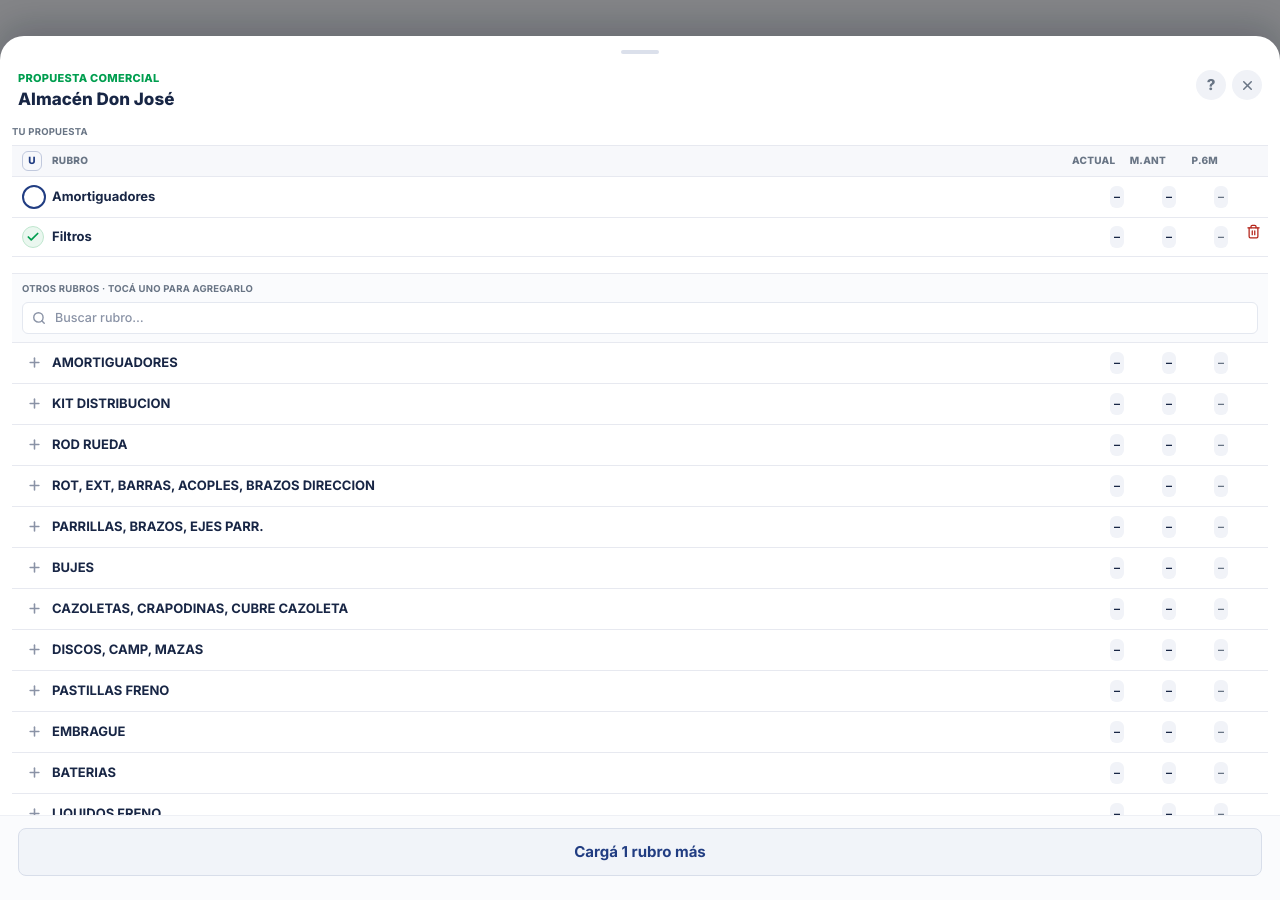
Scenario: el wizard conserva lo tildado en un rubro al navegar a otro y volver
The width and height of the screenshot is (1280, 900).
Click the button with aria-label "Resolución de Amortiguadores": (104, 196) [12,177,1238,217]
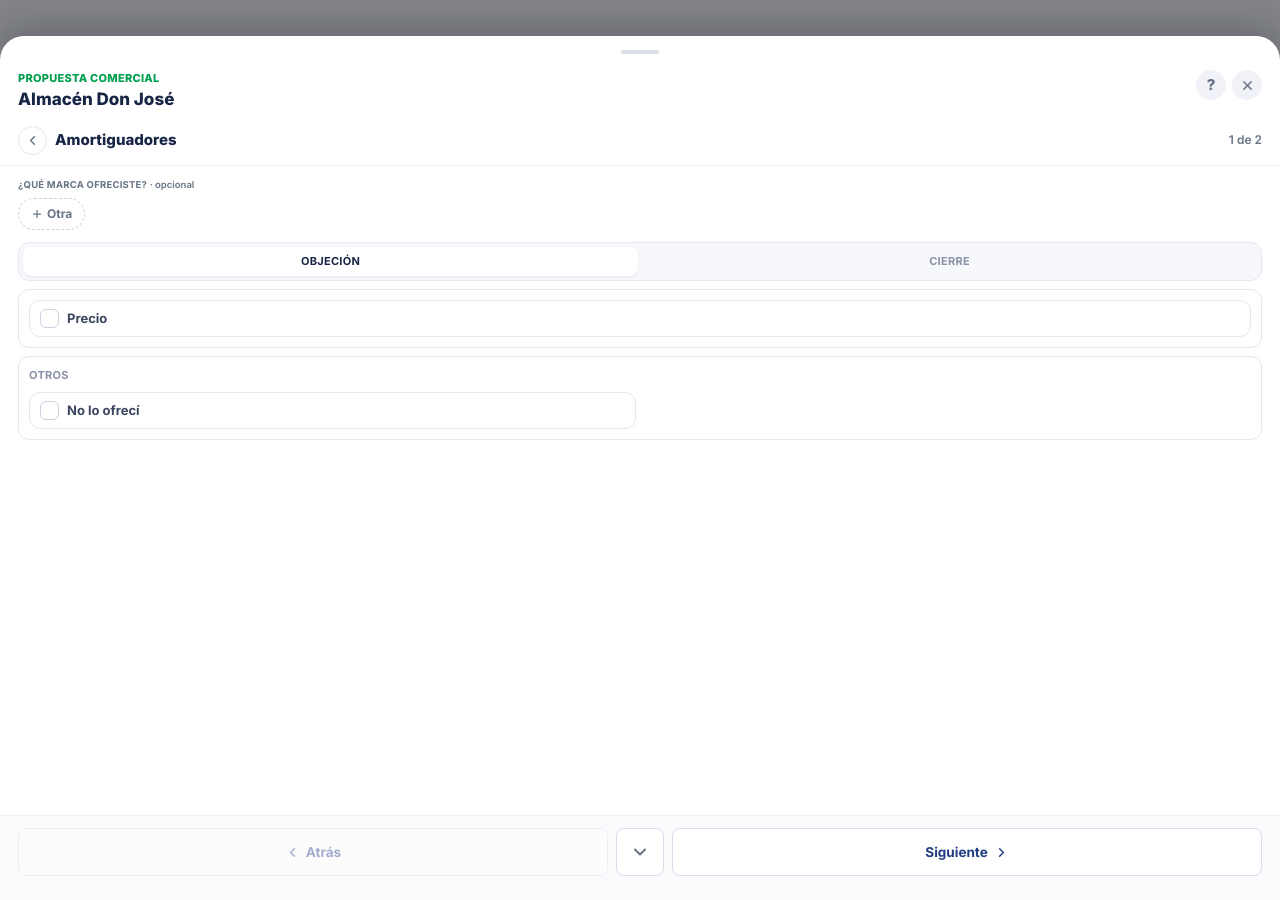
Click the button "Cierre": (950, 261) [642,247,1257,276]
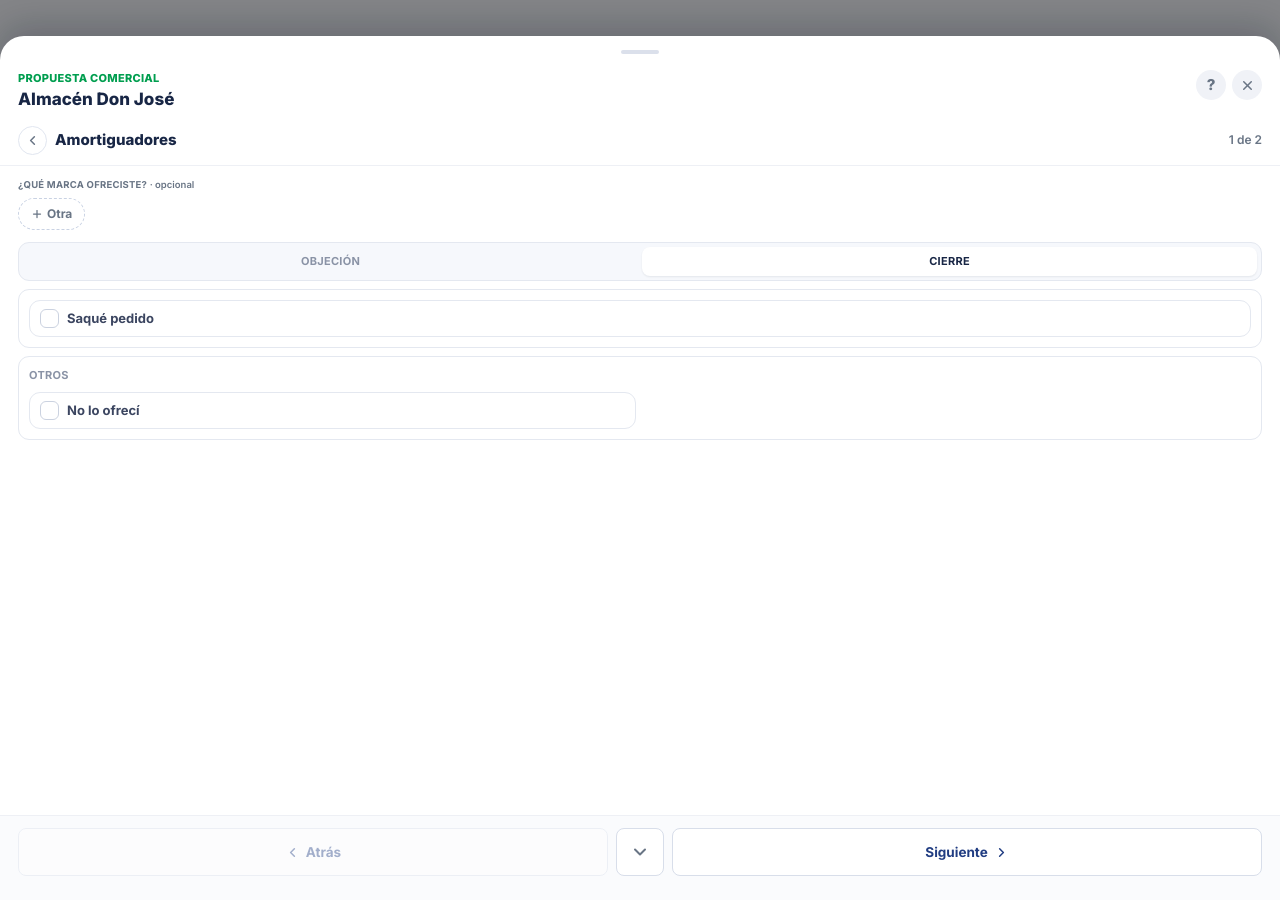
Click the button "Saqué pedido": (110, 318) [29,300,1251,337]
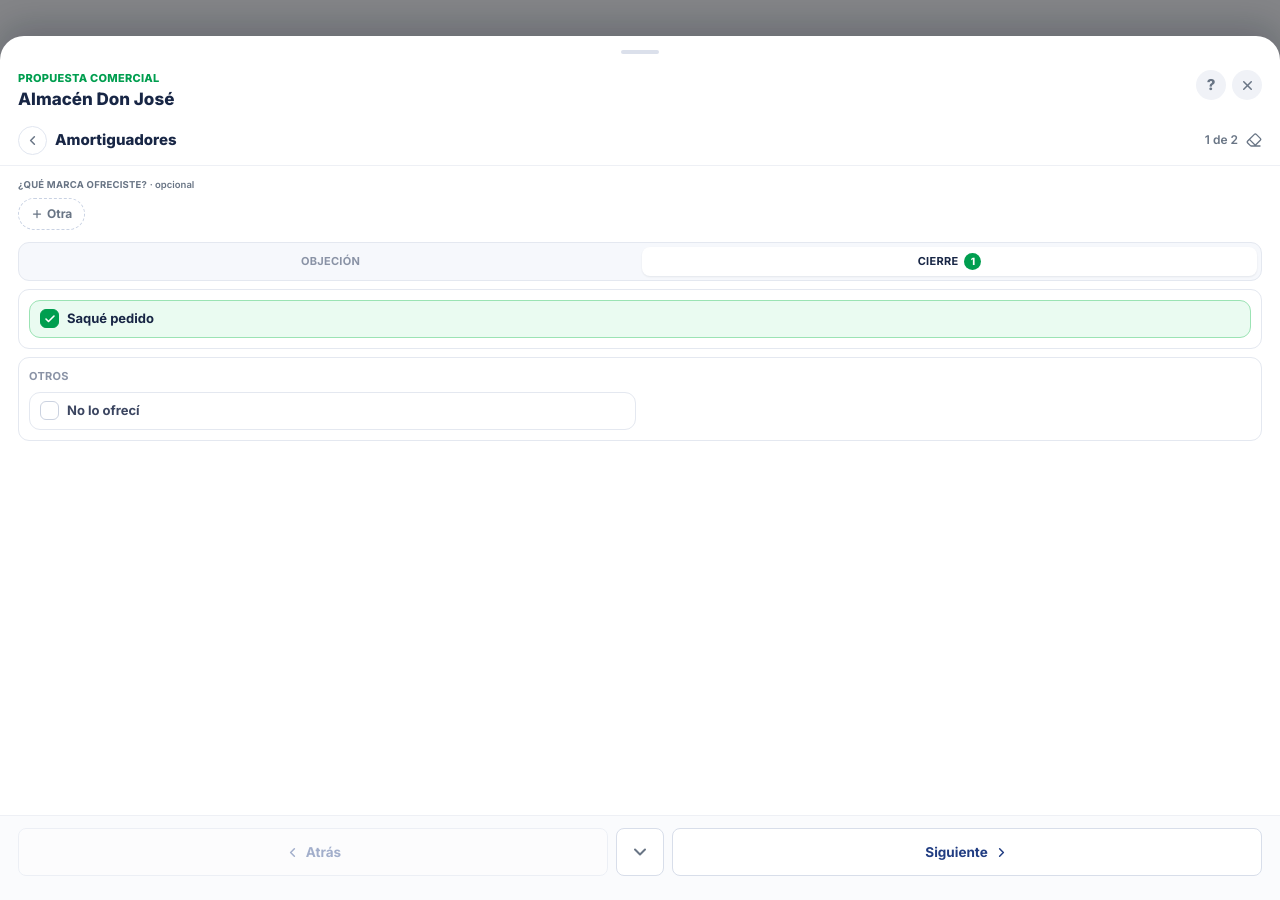
Click the button "Siguiente": (967, 852) [672,828,1262,876]
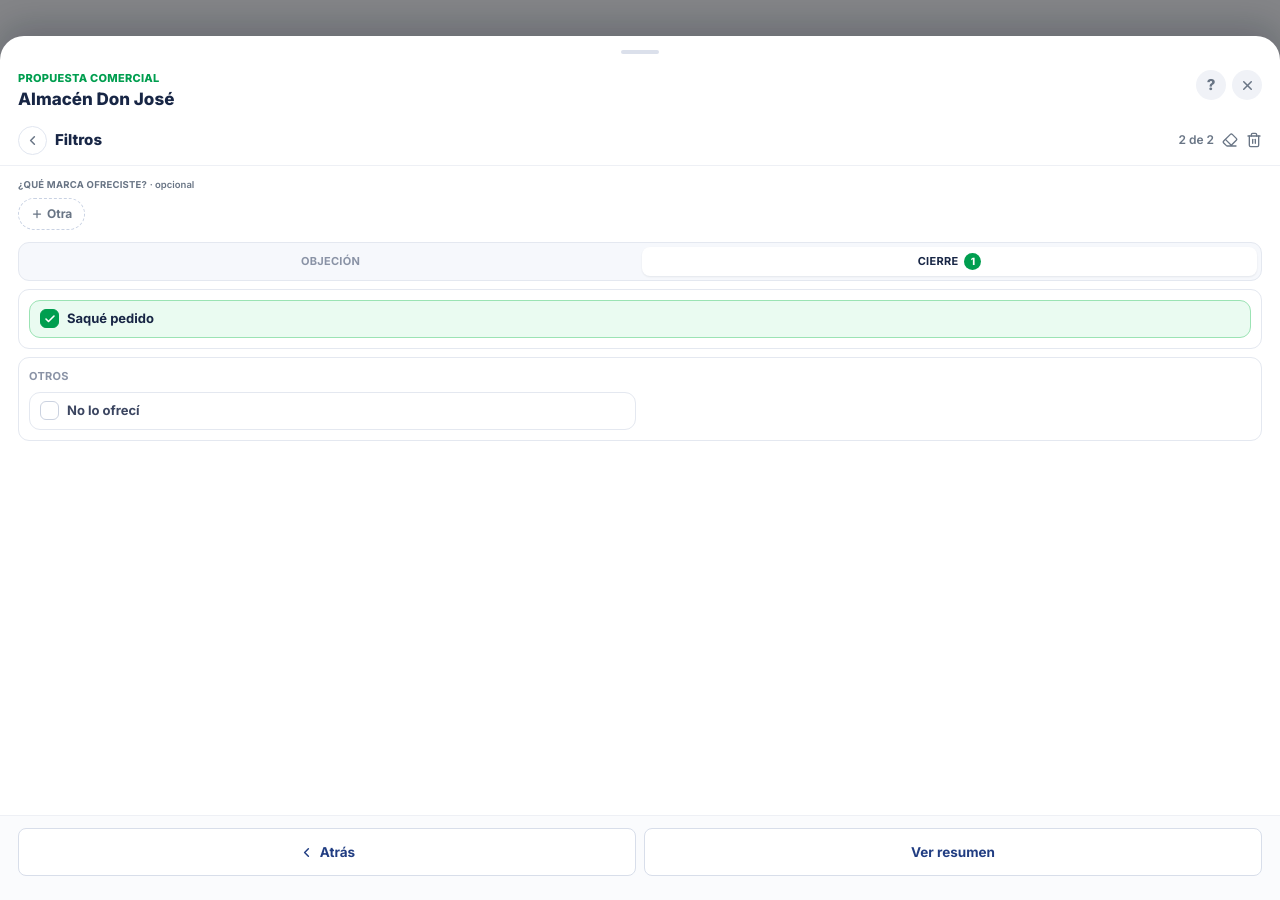
Expected: the text "2 de 2" is shown, [1178,131,1214,149]
Click the button "Atrás": (327, 852) [18,828,636,876]
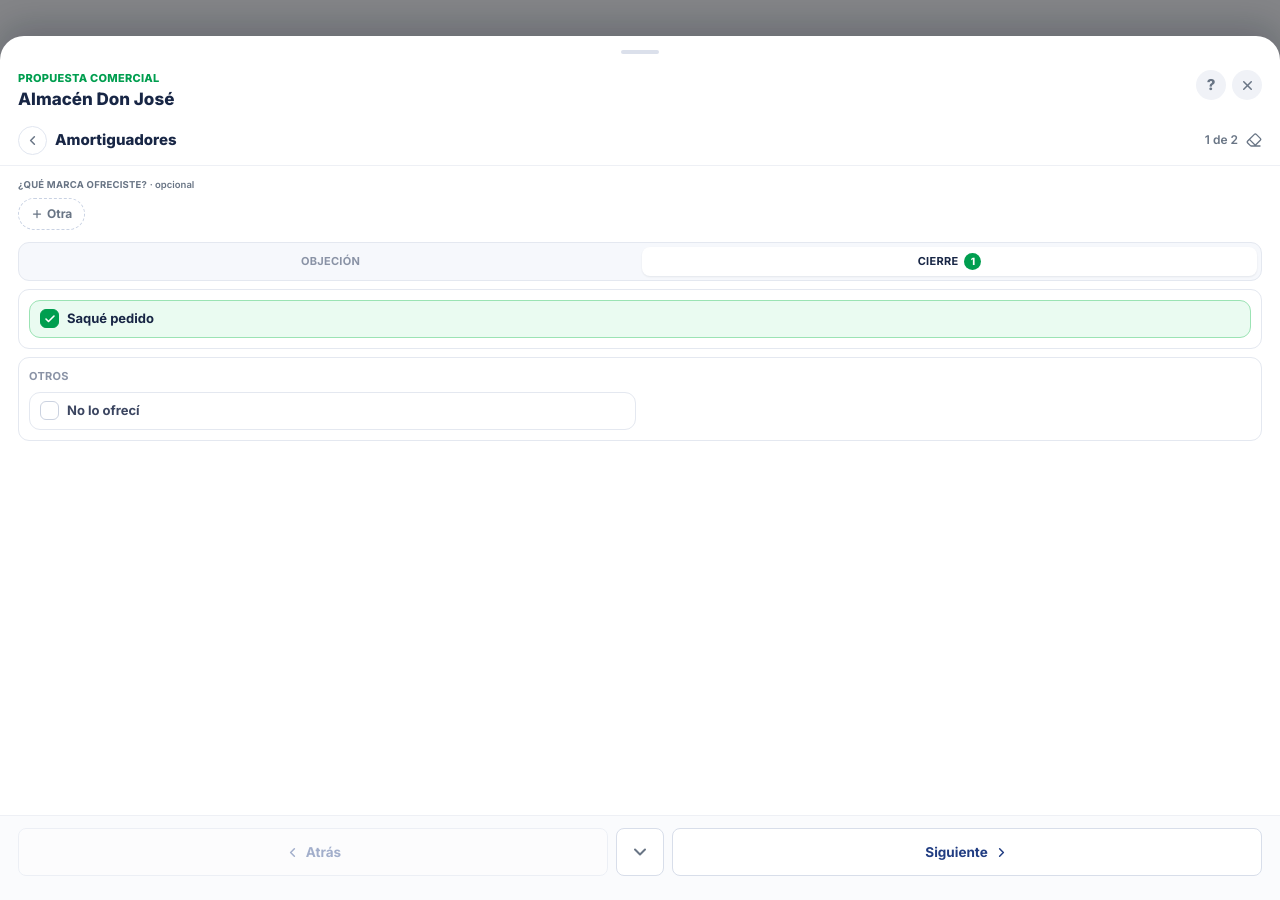
Expected: the text "1 de 2" is shown, [1205,131,1238,149]
